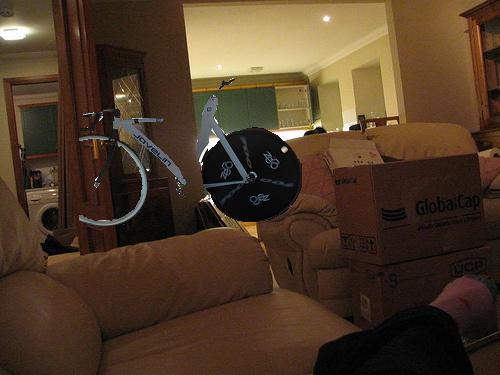tampered: (80, 79, 302, 226)
